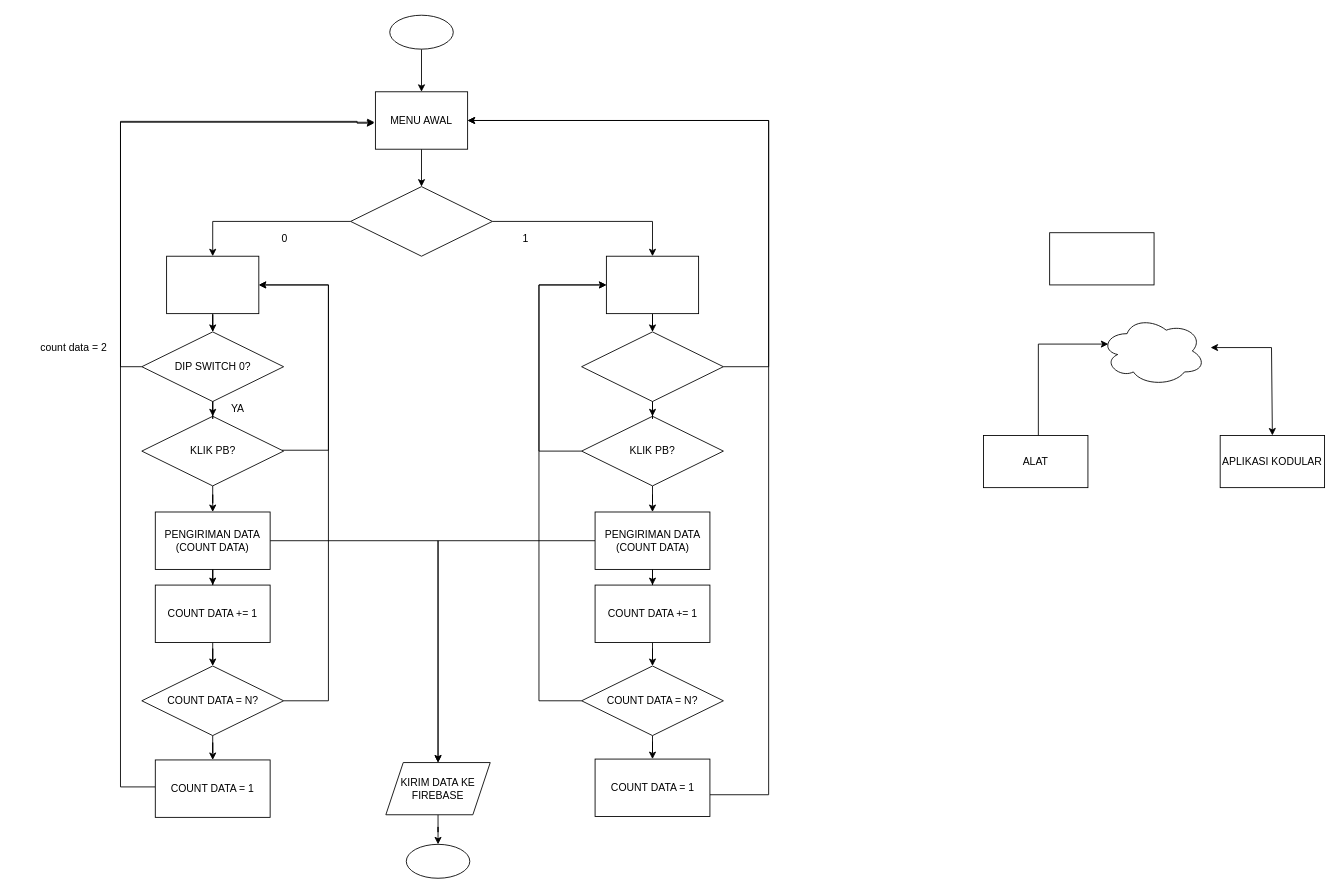
This 1340x893 diagram has some shape labels left out. Each missing label, with the centre of its shape:
DATA 1 = 10 DATA 2 = 11 DATA 3 = 13: the point at 1101,258
DIP SWITCH 1?: the point at 652,366
DIP SWITCH?: the point at 421,221
FIREBASE: the point at 1152,350
MULAI: the point at 421,31
PEMBACAAN ARUS: the point at 652,284
PEMBACAAN VOLTASE: the point at 212,284
SELESAI: the point at 437,860
